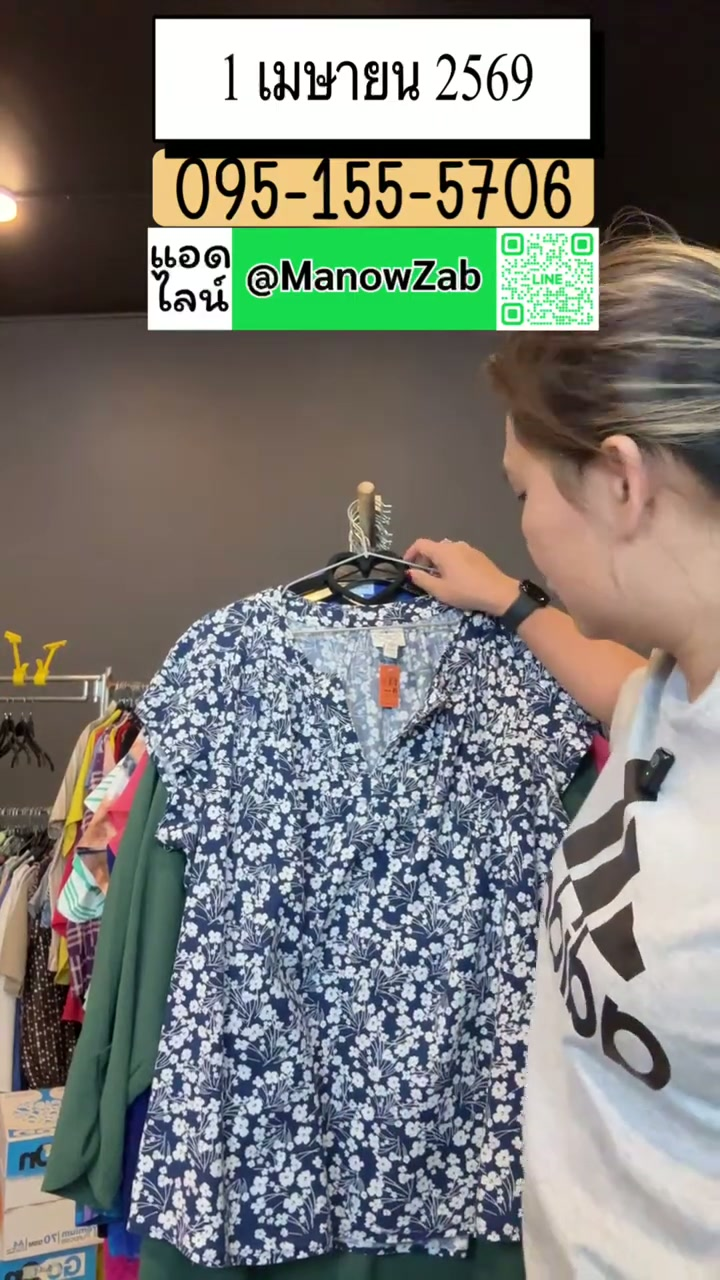display_shirt: (131, 588, 592, 1267)
